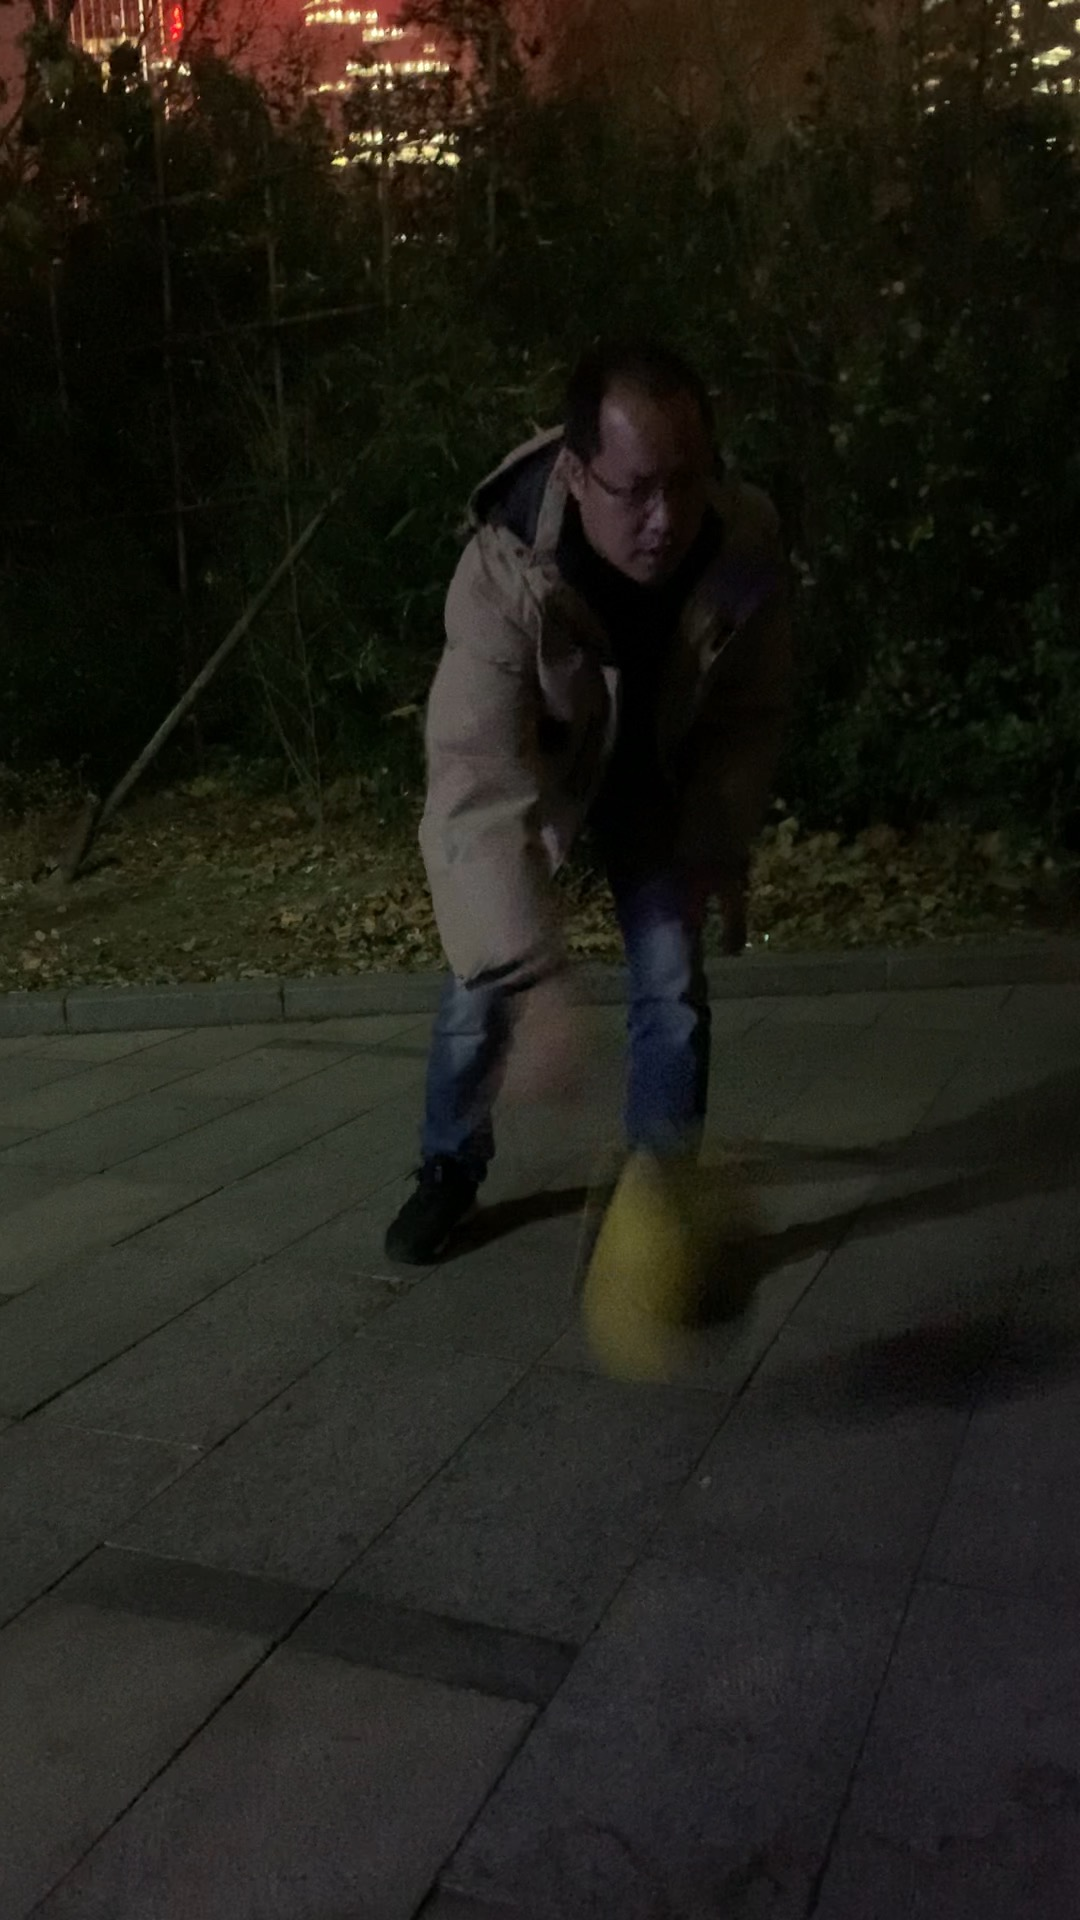ball: (562, 1163, 771, 1378)
